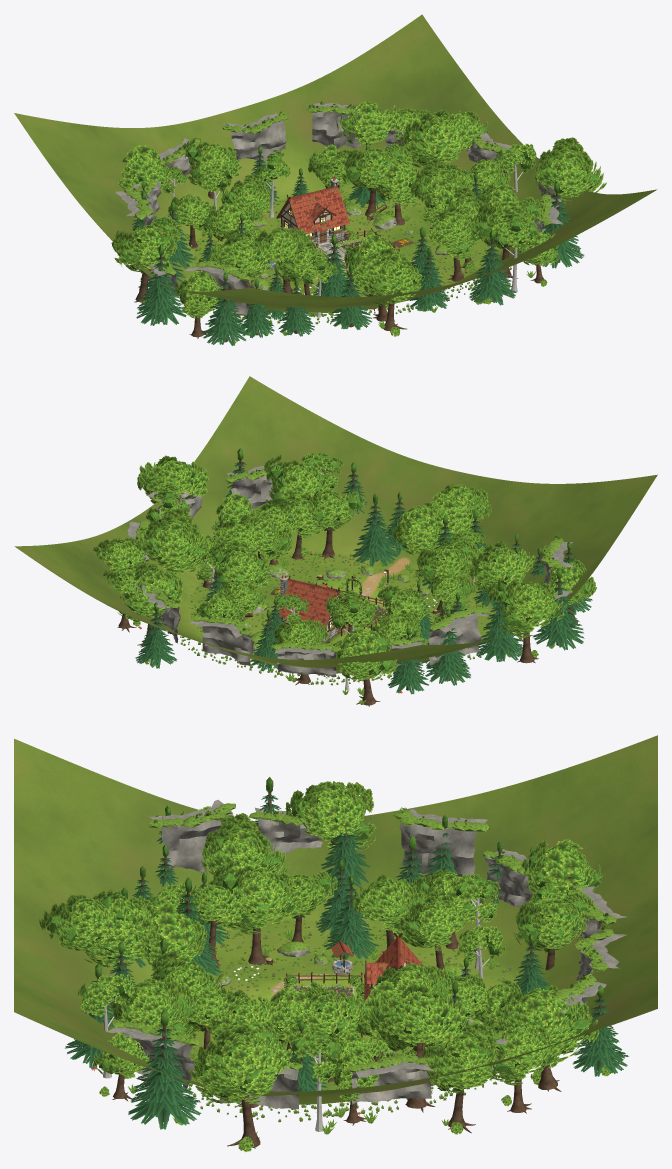
The model's file is cottage_glade_ro3.glb.
3 renders of one model, top to bottom at view 1: azimuth 30°, elevation 25°; view 2: azimuth 150°, elevation 25°; view 3: azimuth 270°, elevation 25°, orthographic. The views are drawn at different scales.
Visible parts, largest first — view 1: 地面, 小屋, 広葉樹.023, 広葉樹.024, 広葉樹.030, 広葉樹.021, 広葉樹.014, 岩壁.005, 広葉樹.006, 広葉樹.020, 広葉樹.017, 針葉樹.011 (+41 smaller); view 2: 地面, 広葉樹.030, 広葉樹.024, 広葉樹.025, 広葉樹.016, 広葉樹.023, 広葉樹.017, 岩壁.005, 広葉樹.014, 広葉樹.020, 広葉樹.006, 小屋 (+36 smaller); view 3: 地面, 広葉樹.023, 広葉樹.024, 広葉樹.020, 広葉樹.030, 広葉樹.010, 広葉樹.018, 針葉樹.012, 岩壁.002, 広葉樹.016, 広葉樹.031, 広葉樹.028 (+47 smaller).
Boxes of the visible parts, x1,y1,x2,y2 form: 地面: (14, 14, 657, 312); 小屋: (276, 176, 349, 247); 広葉樹.023: (533, 137, 606, 203); 広葉樹.024: (397, 109, 473, 167); 広葉樹.030: (111, 216, 180, 303); 広葉樹.021: (363, 248, 424, 332); 広葉樹.014: (341, 143, 409, 219); 岩壁.005: (222, 111, 288, 161); 広葉樹.006: (428, 211, 485, 281); 広葉樹.020: (336, 101, 405, 145); 広葉樹.017: (470, 197, 545, 278); 針葉樹.011: (136, 244, 186, 325); 地面: (14, 376, 657, 673); 広葉樹.030: (486, 577, 566, 663); 広葉樹.024: (138, 508, 209, 574); 広葉樹.025: (336, 628, 398, 706); 広葉樹.016: (468, 540, 535, 612); 広葉樹.023: (137, 455, 208, 503); 広葉樹.017: (263, 454, 334, 508); 岩壁.005: (189, 611, 253, 665); 広葉樹.014: (208, 541, 272, 618); 広葉樹.020: (117, 563, 183, 645); 広葉樹.006: (302, 489, 365, 559); 小屋: (277, 575, 348, 641); 地面: (14, 735, 657, 1104); 広葉樹.023: (189, 1024, 292, 1150); 広葉樹.024: (369, 984, 467, 1112); 広葉樹.020: (494, 984, 599, 1091); 広葉樹.030: (285, 781, 376, 850); 広葉樹.010: (213, 860, 303, 964); 広葉樹.018: (421, 1023, 497, 1133); 針葉樹.012: (128, 1009, 201, 1129); 岩壁.002: (393, 807, 489, 876); 広葉樹.016: (200, 813, 289, 875); 広葉樹.031: (513, 892, 594, 970); 広葉樹.028: (484, 1018, 561, 1113).
Size of the model in its own units: 66.91 by 15.06 by 60.
39 materials, 23 textured.
